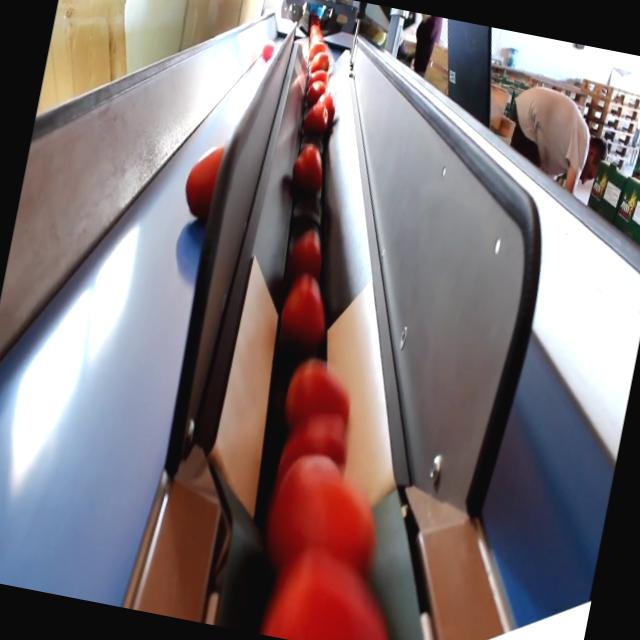Tomato: (265, 458, 390, 579), (265, 542, 405, 640), (282, 360, 359, 428), (176, 144, 232, 230), (281, 413, 356, 472), (276, 271, 332, 339), (288, 142, 330, 200), (290, 228, 328, 269), (304, 102, 331, 139), (314, 94, 336, 118), (309, 52, 330, 76), (304, 80, 326, 102), (261, 41, 275, 62)
